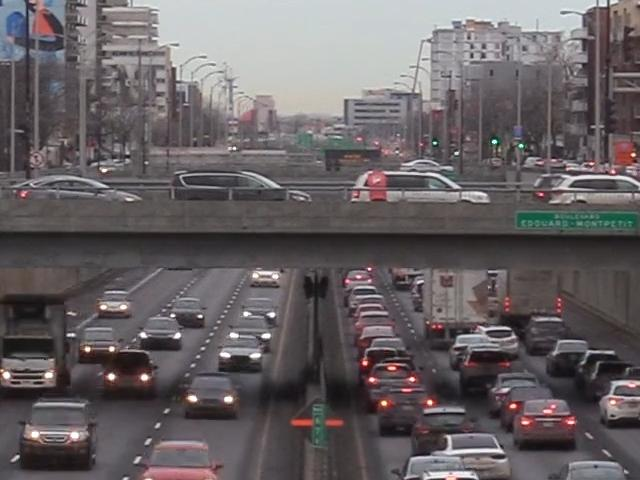car: (20, 398, 102, 469), (431, 430, 514, 480), (452, 335, 520, 396), (142, 434, 222, 480), (514, 398, 577, 450), (182, 369, 243, 419), (411, 406, 474, 454), (380, 386, 438, 438), (360, 360, 417, 410), (103, 348, 158, 399), (566, 349, 622, 398), (500, 386, 554, 428), (545, 338, 592, 379), (216, 335, 266, 373), (228, 309, 274, 350), (354, 314, 402, 353), (597, 382, 640, 425), (360, 339, 411, 375), (549, 460, 638, 480), (394, 455, 464, 480), (523, 315, 567, 354), (467, 325, 520, 355), (137, 315, 183, 349), (167, 296, 207, 328), (344, 287, 384, 318), (96, 293, 133, 319), (249, 266, 284, 288), (390, 266, 419, 290), (255, 304, 283, 328), (344, 268, 375, 289), (424, 318, 449, 341), (622, 364, 640, 387)
truck: (0, 289, 84, 394), (425, 268, 483, 336), (502, 266, 564, 325)
